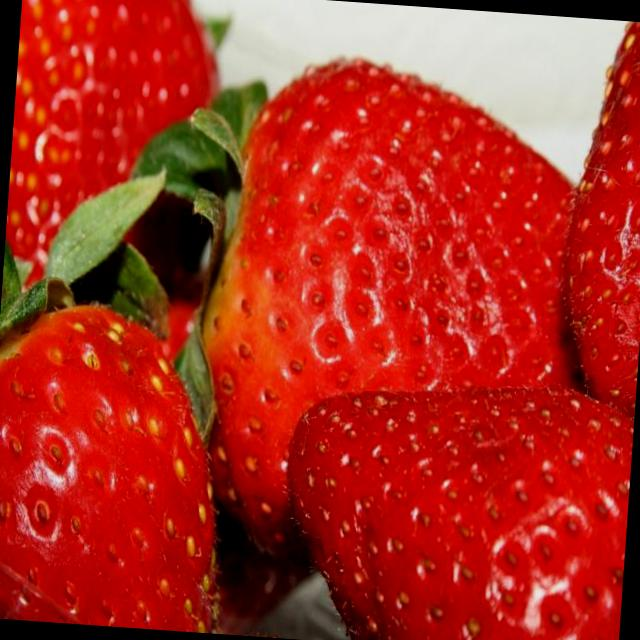Strawberry: (181, 44, 596, 578), (274, 365, 636, 640), (0, 286, 241, 631), (1, 0, 233, 309), (552, 17, 640, 420)
